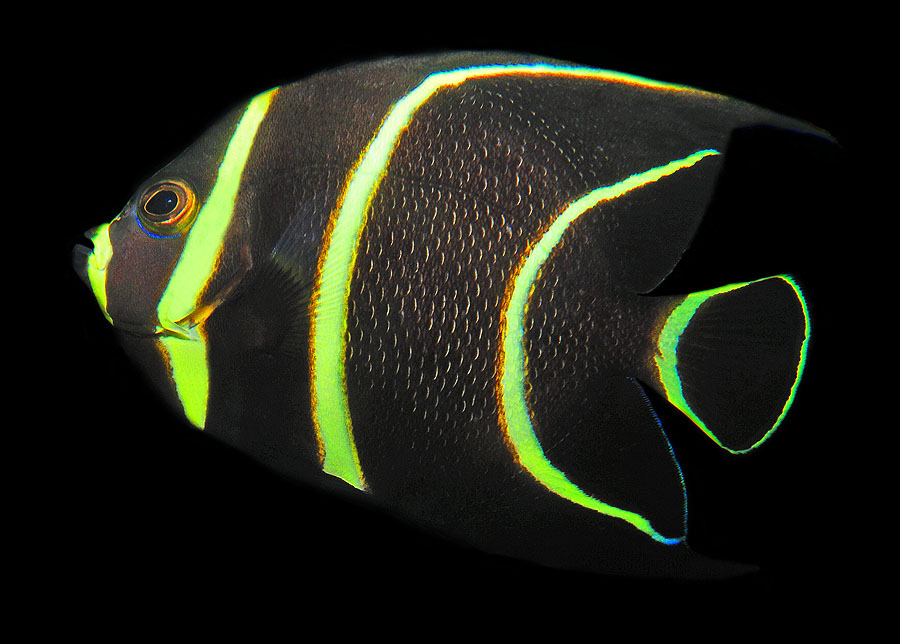Pomacanthus_paru: (50, 26, 803, 569)
